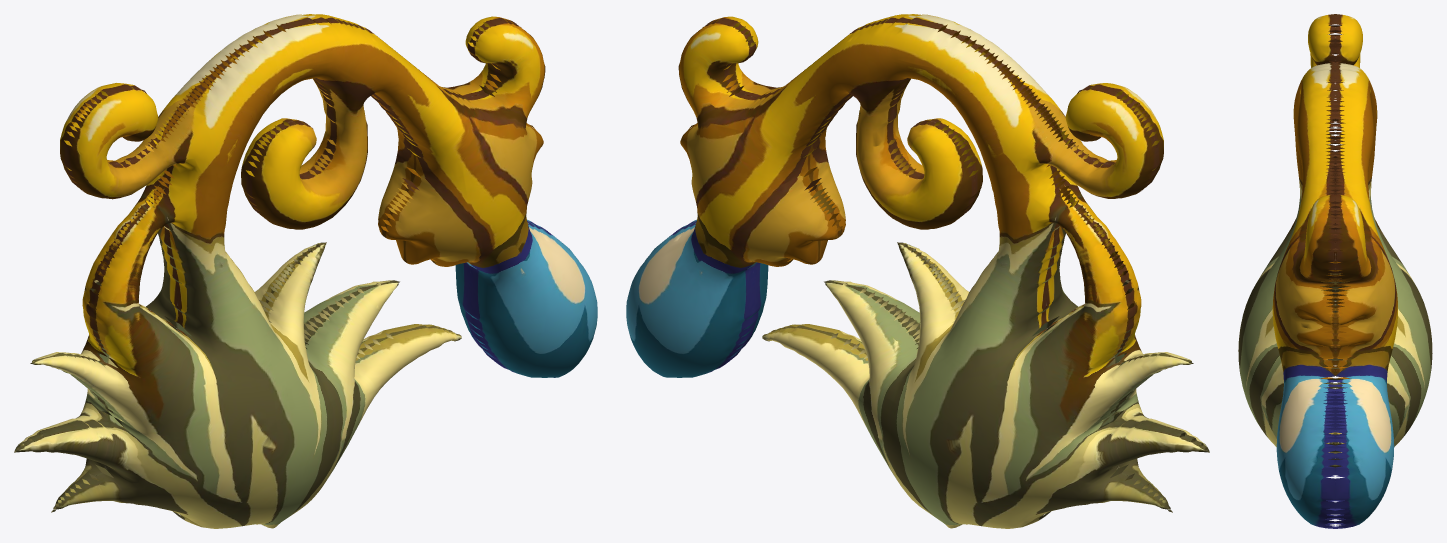
The model's file is curl_bud_plant.glb.
The picture shows the model from 3 angles, left to right: view 1: azimuth 30°, elevation 25°; view 2: azimuth 150°, elevation 25°; view 3: azimuth 270°, elevation 25°; orthographic projection. The views are drawn at different scales.
Parts seen in each view (by area): view 1: curl_bud_plant; view 2: curl_bud_plant; view 3: curl_bud_plant.
Part boxes in pixels (bbox=[...]): curl_bud_plant: bbox=[14, 14, 597, 528]; curl_bud_plant: bbox=[626, 14, 1209, 528]; curl_bud_plant: bbox=[1238, 14, 1432, 528].
Bounding box in the file's own units: 0.9842 × 0.7853 × 0.3396.
1 material, 1 textured.
